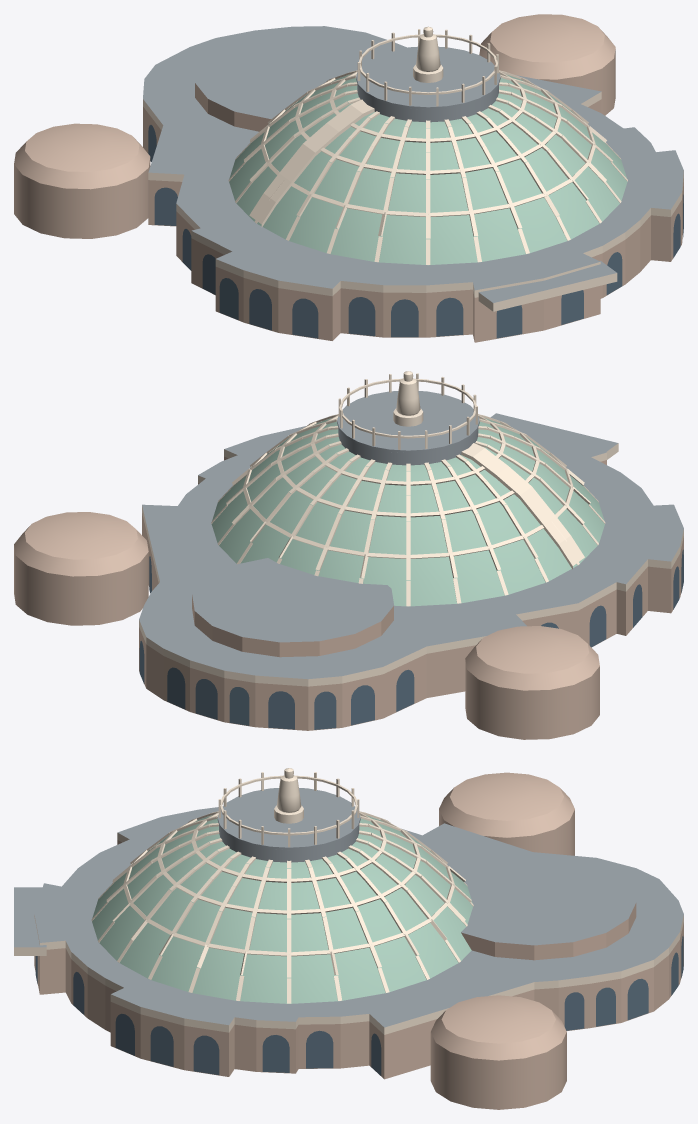
Rendered from niagara-our-lady-of-fatima.glb.
3 views of the same model, one above another, from view 1: azimuth 30°, elevation 25°; view 2: azimuth 150°, elevation 25°; view 3: azimuth 270°, elevation 25° (orthographic).
Visible parts, largest first — view 1: Our Lady of Fatima Shrine; view 2: Our Lady of Fatima Shrine; view 3: Our Lady of Fatima Shrine.
Part boxes in pixels (box(x1,y1,x2,y2)): Our Lady of Fatima Shrine: box(14, 14, 683, 342); Our Lady of Fatima Shrine: box(14, 371, 683, 739); Our Lady of Fatima Shrine: box(14, 768, 683, 1109).
Bounding box in the file's own units: 48.7 × 16.55 × 49.2.
